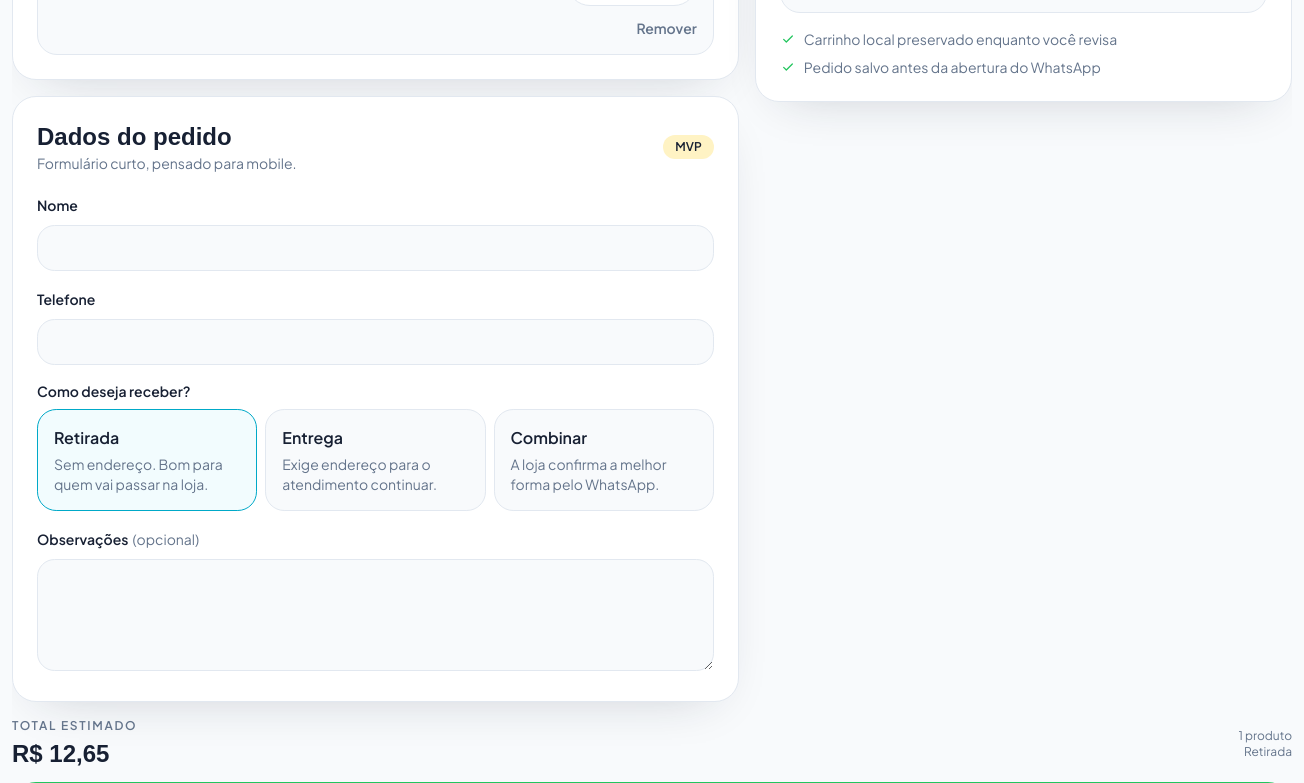
it: OrderPageClient › reveals CEP on delivery and fills the address after lookup
(page scrolled)
Click the button "Entrega Exige endereço para o atendimento continuar." at (375, 460), box [265,409,486,511]
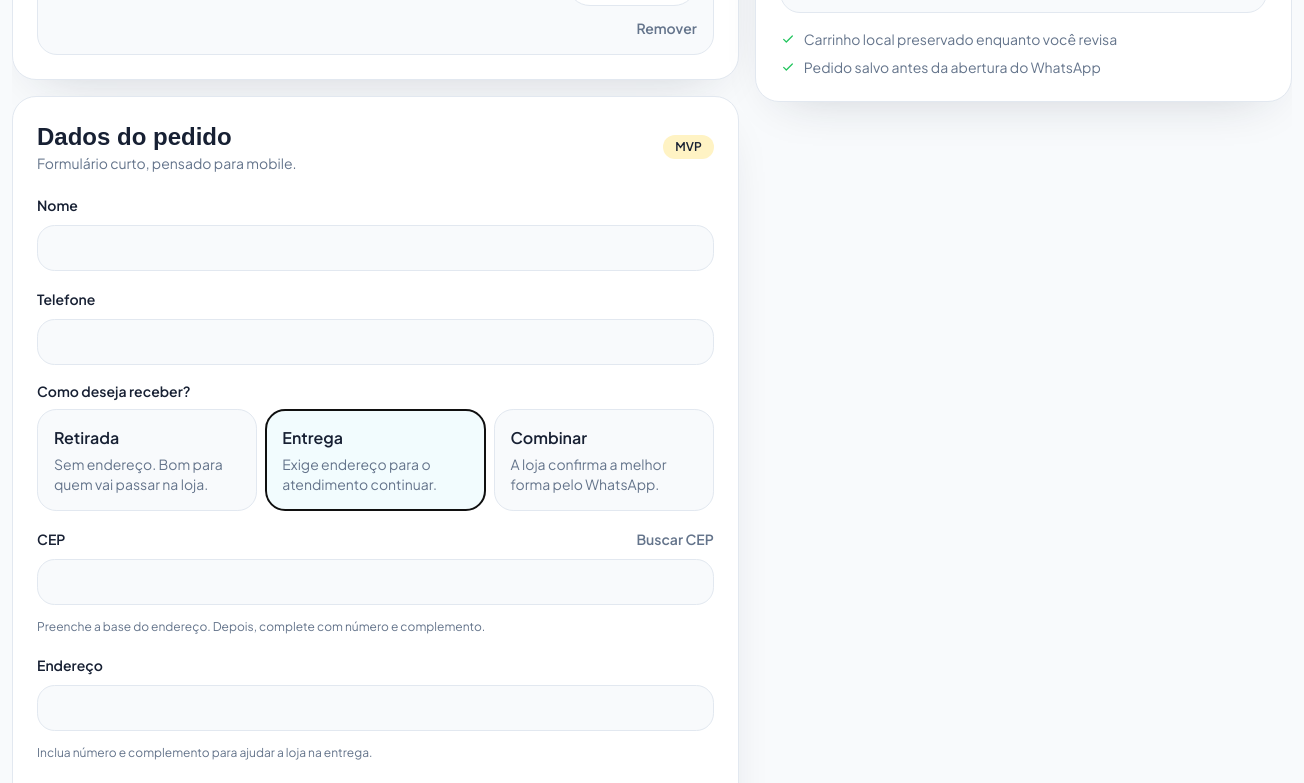
Type "60125340" into the field labelled "CEP" at (375, 582), box [37,559,714,605]
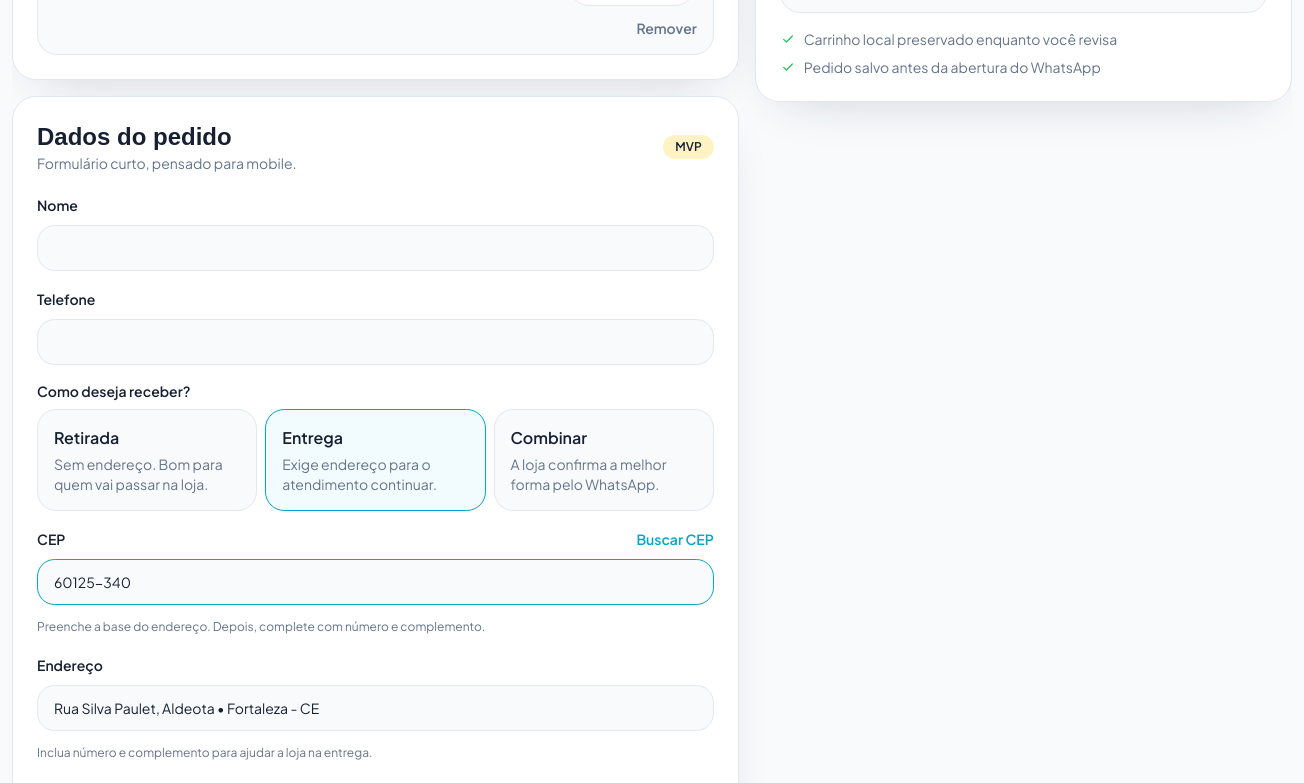
expect the field labelled "Endereço" holds "Rua Silva Paulet, Aldeota • Fortaleza - CE": met, box [37,685,714,731]
